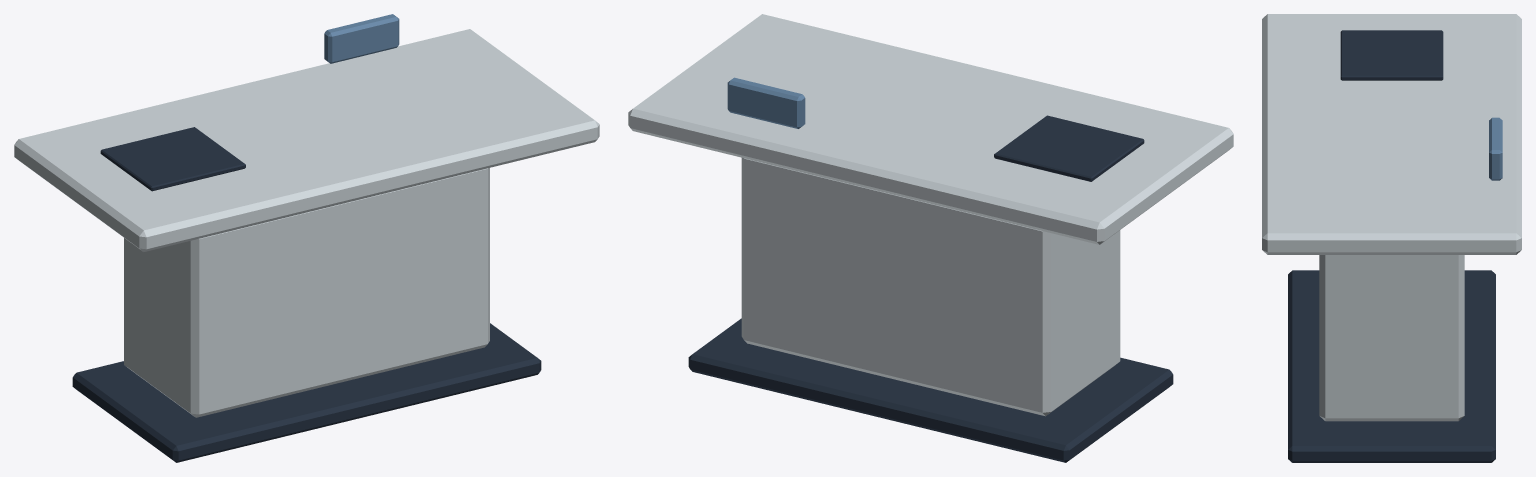
File: school_07.glb
The picture shows the model from 3 angles, left to right: view 1: azimuth 30°, elevation 25°; view 2: azimuth 150°, elevation 25°; view 3: azimuth 270°, elevation 25°; orthographic projection. The views are drawn at different scales.
Parts seen in each view (by area): view 1: BenchMast, LabTop, BenchFoot, Sink, PowerBar; view 2: BenchMast, LabTop, BenchFoot, Sink, PowerBar; view 3: LabTop, BenchMast, BenchFoot, Sink, PowerBar.
Part boxes in pixels (x1,y1,x2,y2): BenchMast: (124,168,489,417); LabTop: (14,29,599,251); BenchFoot: (72,323,541,462); Sink: (100,127,245,191); PowerBar: (324,14,399,63); BenchMast: (741,158,1120,416); LabTop: (628,14,1233,244); BenchFoot: (688,318,1173,462); Sink: (994,115,1144,181); PowerBar: (727,77,805,128); LabTop: (1262,14,1521,254); BenchMast: (1319,255,1464,421); BenchFoot: (1288,270,1495,462); Sink: (1340,30,1443,80); PowerBar: (1489,117,1502,180).
Size of the model in its own units: 1.55 by 0.9475 by 0.76.
